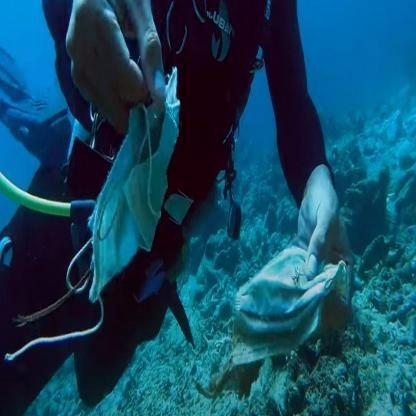Mask: (82, 68, 180, 304), (230, 245, 351, 374)
